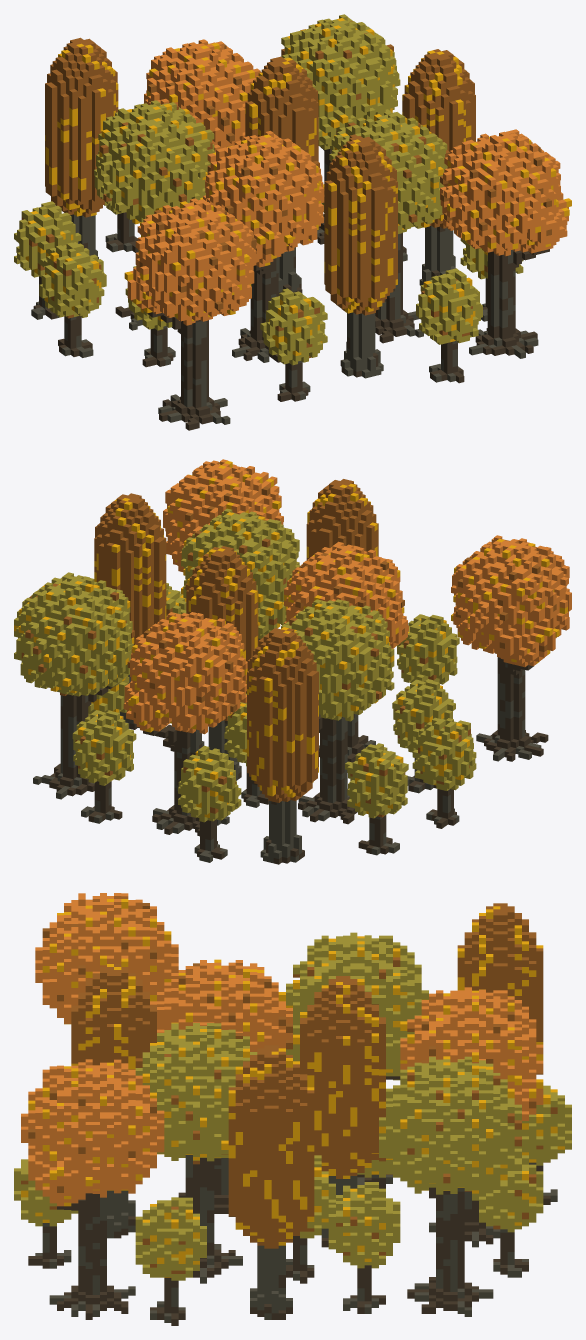
The model's file is trees_14_overtile.obj.
The picture shows the model from 3 angles, top to bottom: view 1: azimuth 30°, elevation 25°; view 2: azimuth 150°, elevation 25°; view 3: azimuth 270°, elevation 25°; orthographic projection. The views are drawn at different scales.
Bounding box in the file's own units: 7.5 × 4 × 7.8.
Materials: 1 (1 with a texture image).
